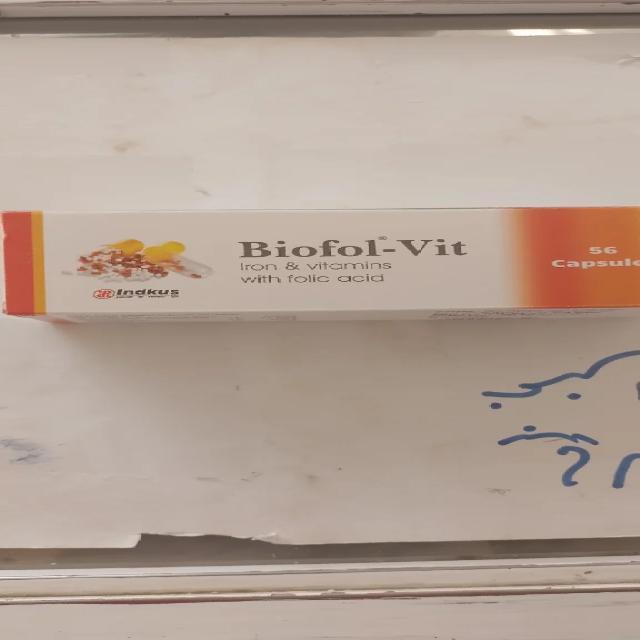drug-name: (239, 234, 465, 260)
